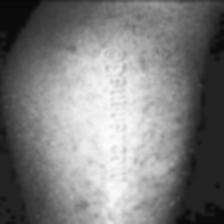Non-Cancerous Skin Condition: (29, 47, 103, 213)
